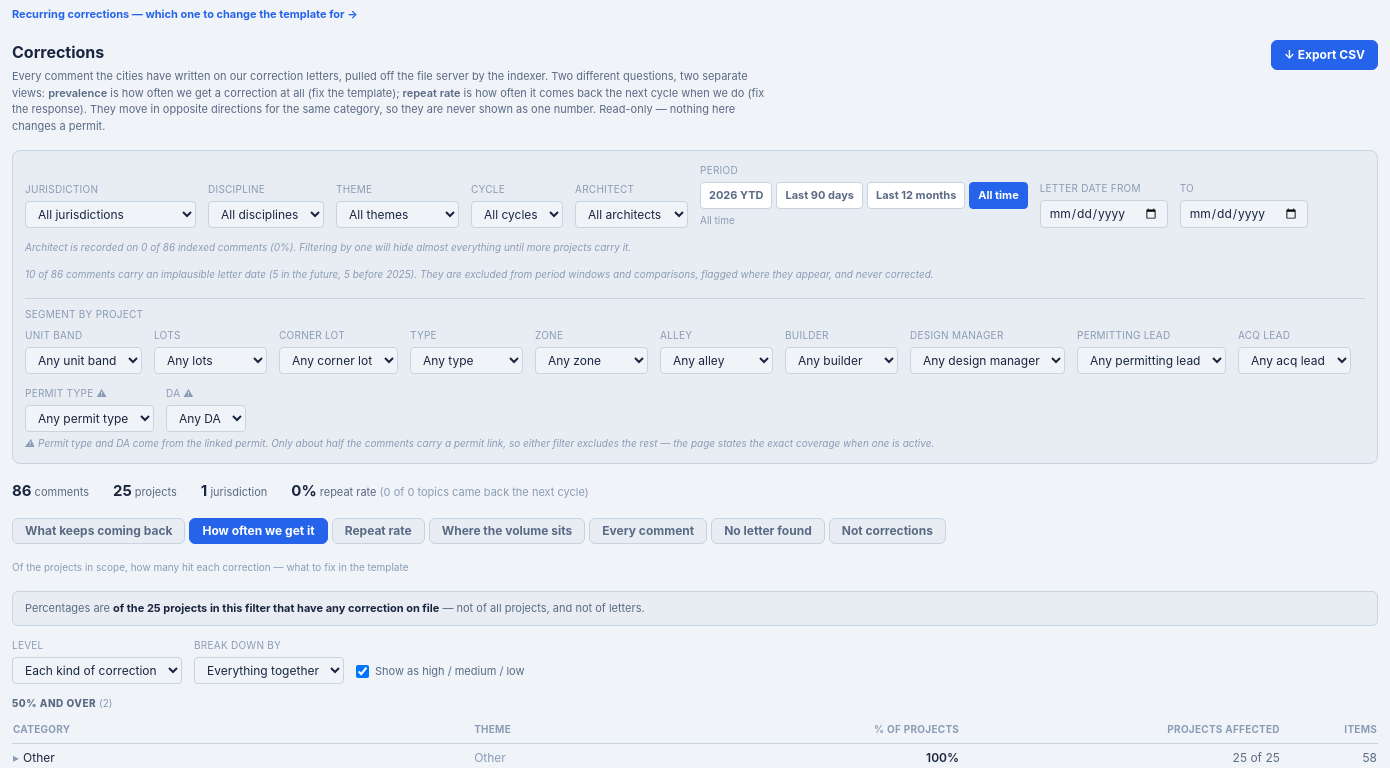
fix-281 period presets › the window is named in words, not just by a highlighted button
Click the button with test id "corrections-period-last90" at (820, 195), box [776, 182, 863, 208]
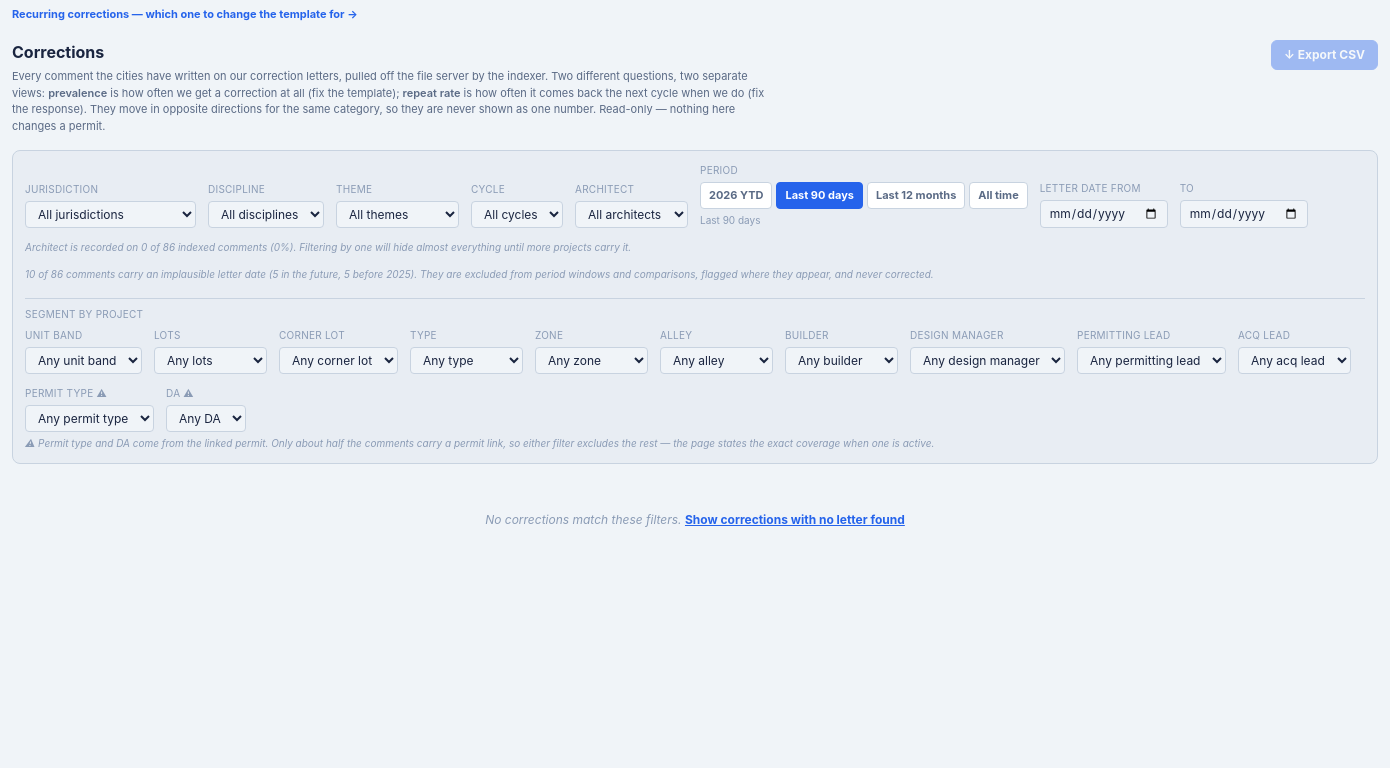
Expected: the text with test id "corrections-period-label" reads "Last 90 days", [700, 214, 760, 226]
